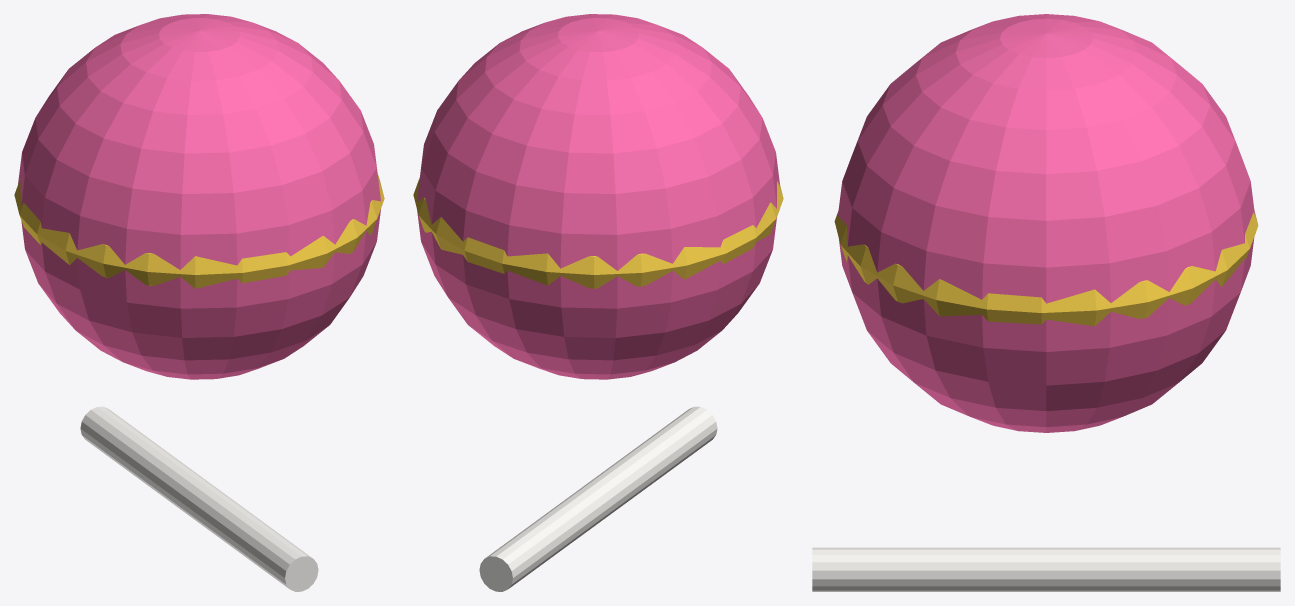
File: candytree.glb
The picture shows the model from 3 angles, left to right: view 1: azimuth 30°, elevation 25°; view 2: azimuth 150°, elevation 25°; view 3: azimuth 270°, elevation 25°; orthographic projection. The views are drawn at different scales.
Parts seen in each view (by area): view 1: Ball, Stick, Band1; view 2: Ball, Stick, Band1; view 3: Ball, Stick, Band1.
Part boxes in pixels (x1,y1,x2,y2): Ball: [18, 14, 380, 379]; Stick: [80, 406, 318, 591]; Band1: [14, 174, 384, 288]; Ball: [417, 14, 779, 379]; Stick: [479, 406, 717, 591]; Band1: [413, 177, 783, 288]; Ball: [838, 14, 1254, 432]; Stick: [812, 547, 1280, 591]; Band1: [834, 210, 1258, 326].
Bounding box in the file's own units: 1.72 × 2.49 × 1.9.
